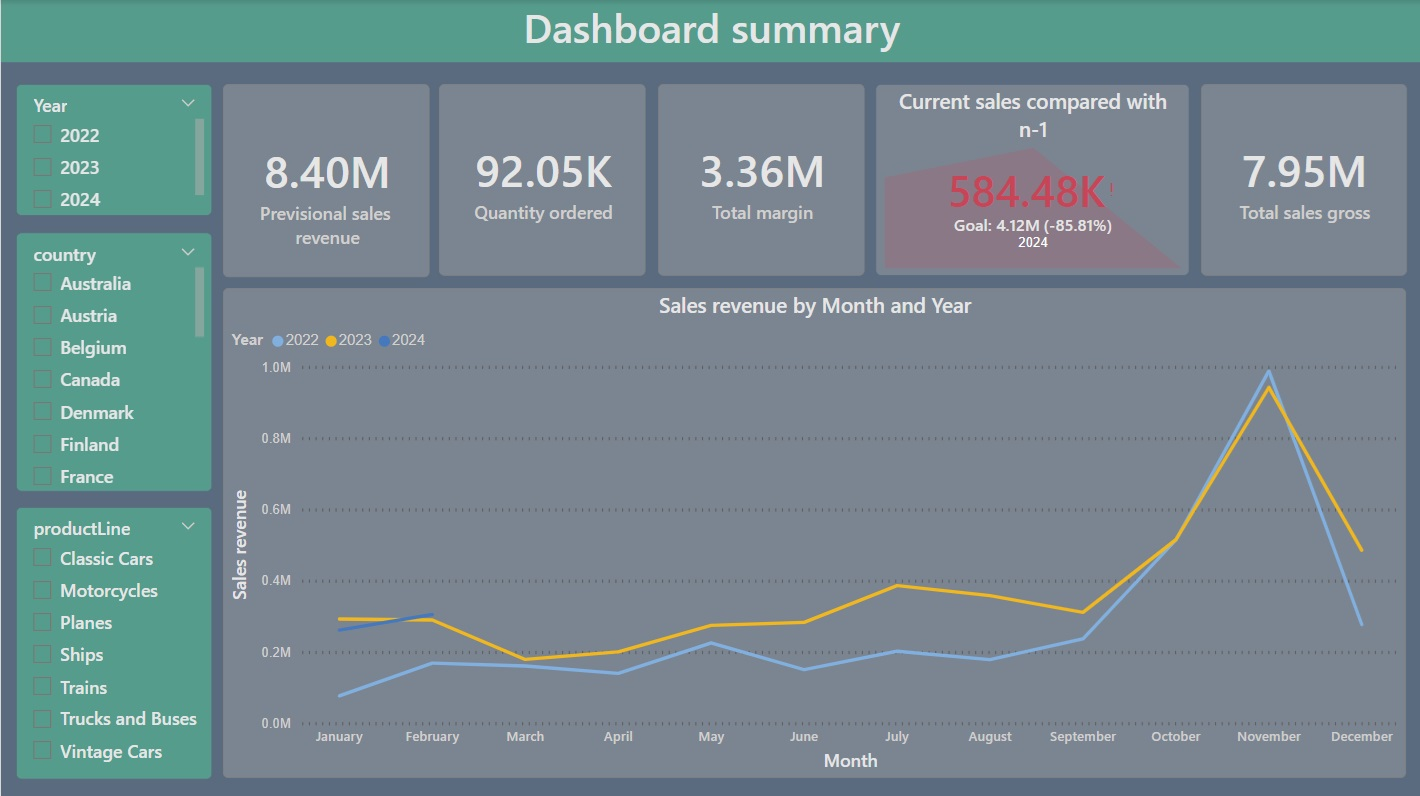

The page's visual inventory and layout, read from the dashboard file:
{"tool":"powerbi","page":{"name":"SUMMARY","canvas":[1280,720],"ordinal":1},"visuals":[{"type":"textbox","title":"Dashboard summary","box":[0,0,1280,56.2],"z":0},{"type":"card","fields":{"Values":["Sum(VT_6.CA)"]},"box":[200,75,186.2,173.8],"z":1000},{"type":"card","fields":{"Values":["Sum(FN_3.1.Margin)"]},"box":[591.2,75,186.2,172.5],"z":2000},{"type":"card","fields":{"Values":["Sum(FN_3.1.TotalQuantityOrdered)"]},"box":[395,75,186.2,172.5],"z":3000},{"type":"card","fields":{"Values":["Sum(FN_2.amount_paid)"]},"box":[1080,76.2,185,172.5],"z":4000},{"type":"slicer","fields":{"Values":["FN_3.1.Year"]},"box":[13.3,75,176.7,118.3],"z":5000},{"type":"slicer","fields":{"Values":["FN_3.1.productLine"]},"box":[13.3,456.7,176.7,245],"z":6000},{"type":"slicer","fields":{"Values":["FN_3.1.country"]},"box":[13.3,210,176.7,233.3],"z":7000},{"type":"lineChart","fields":{"Category":["FN_3.1.Month"],"Y":["Sum(FN_3.1.CA)"],"Series":["FN_3.1.Year"]},"box":[200,260,1065,441.2],"z":8000},{"type":"kpi","title":"Current sales compared with n-1","fields":{"TrendLine":["Requête4.orderYear"],"Indicator":["Sum(Requête4.totalSales)"],"Goal":["Sum(CA_n-1.totalSales)"]},"box":[787.5,75,282.5,172.5],"z":9000}]}

Visuals, with their boxes in screenshot pixels (x1, y1, x2, y2), scaled from the page's 1280x720 canvas onto the 1420x796 screenshot:
"Dashboard summary" textbox: 0, 0, 1419, 62
card - Sum(VT_6.CA): 222, 83, 428, 275
card - Sum(FN_3.1.Margin): 656, 83, 862, 274
card - Sum(FN_3.1.TotalQuantityOrdered): 438, 83, 645, 274
card - Sum(FN_2.amount_paid): 1198, 84, 1403, 275
slicer - FN_3.1.Year: 15, 83, 211, 214
slicer - FN_3.1.productLine: 15, 505, 211, 776
slicer - FN_3.1.country: 15, 232, 211, 490
lineChart - FN_3.1.Month x Sum(FN_3.1.CA): 222, 287, 1403, 775
"Current sales compared with n-1" kpi: 874, 83, 1187, 274
